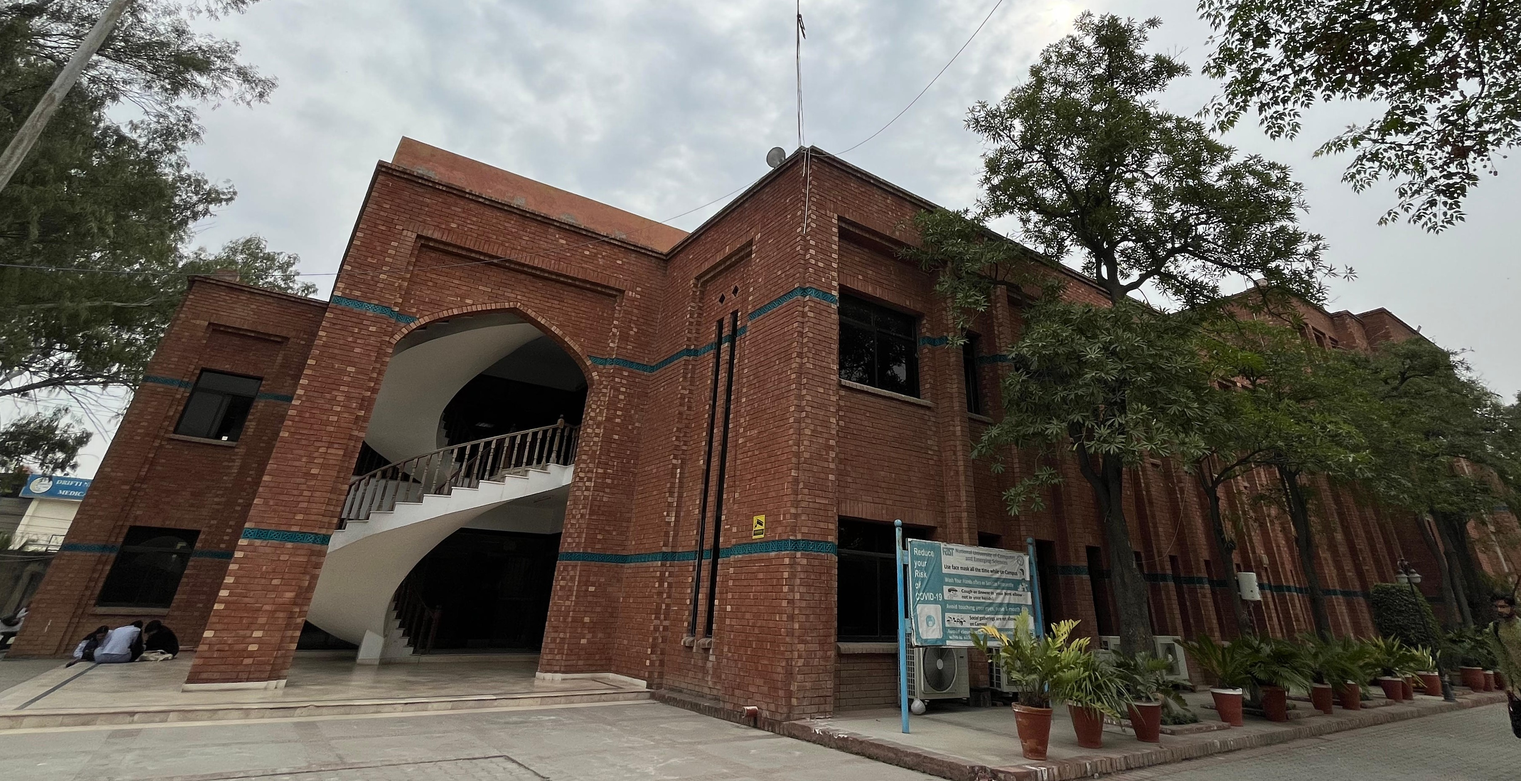Block A: (82, 130, 1514, 716)
